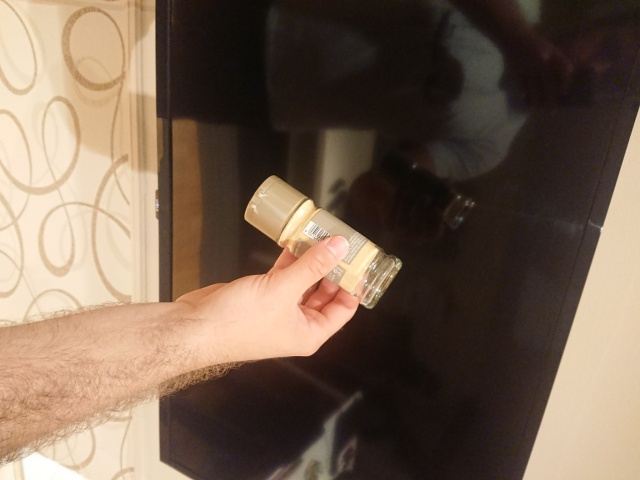Kotanyi Garlic Granules 70g: (241, 173, 404, 312)
